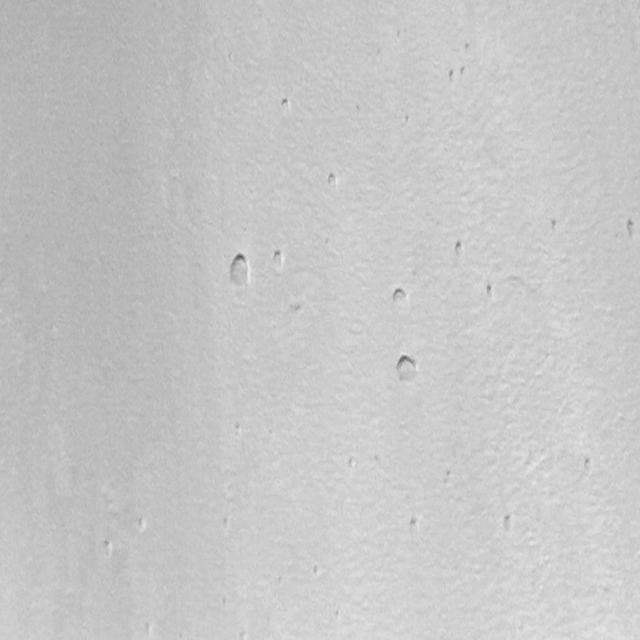pin holes: (226, 250, 255, 299), (391, 353, 422, 388), (387, 284, 410, 312), (269, 248, 289, 274), (497, 512, 517, 538), (449, 238, 467, 262), (579, 454, 598, 476), (324, 170, 342, 192), (99, 538, 116, 559), (407, 515, 423, 535), (134, 514, 150, 533), (625, 218, 638, 240), (445, 65, 460, 84), (278, 96, 293, 115), (310, 563, 324, 582), (141, 620, 155, 638), (442, 468, 456, 486), (483, 284, 496, 303), (291, 301, 307, 315), (548, 218, 560, 235), (333, 607, 344, 623), (463, 42, 475, 56), (237, 629, 250, 639)
